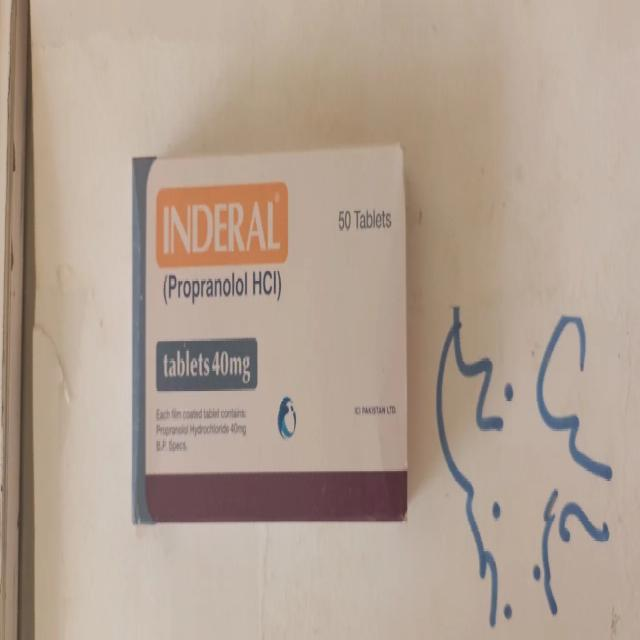drug-name: (160, 196, 284, 253)
